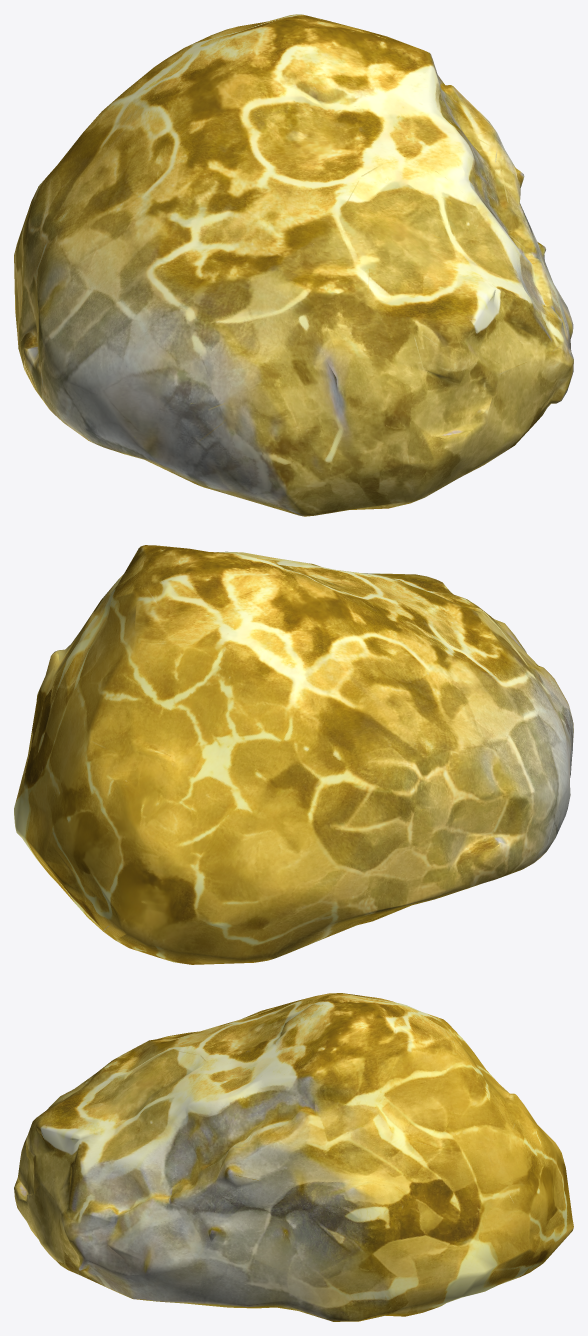
The model's file is goldstone_boson_hazard.glb.
3 views of the same model, one above another, from view 1: azimuth 30°, elevation 25°; view 2: azimuth 150°, elevation 25°; view 3: azimuth 270°, elevation 25° (orthographic). The views are drawn at different scales.
Parts seen in each view (by area): view 1: Mesh1.0; view 2: Mesh1.0; view 3: Mesh1.0.
Part boxes in pixels (bbox=[...]): Mesh1.0: bbox=[14, 14, 573, 516]; Mesh1.0: bbox=[14, 545, 573, 964]; Mesh1.0: bbox=[14, 993, 573, 1321].
Bounding box in the file's own units: 1.49 × 1 × 1.84.
1 material, 1 textured.
